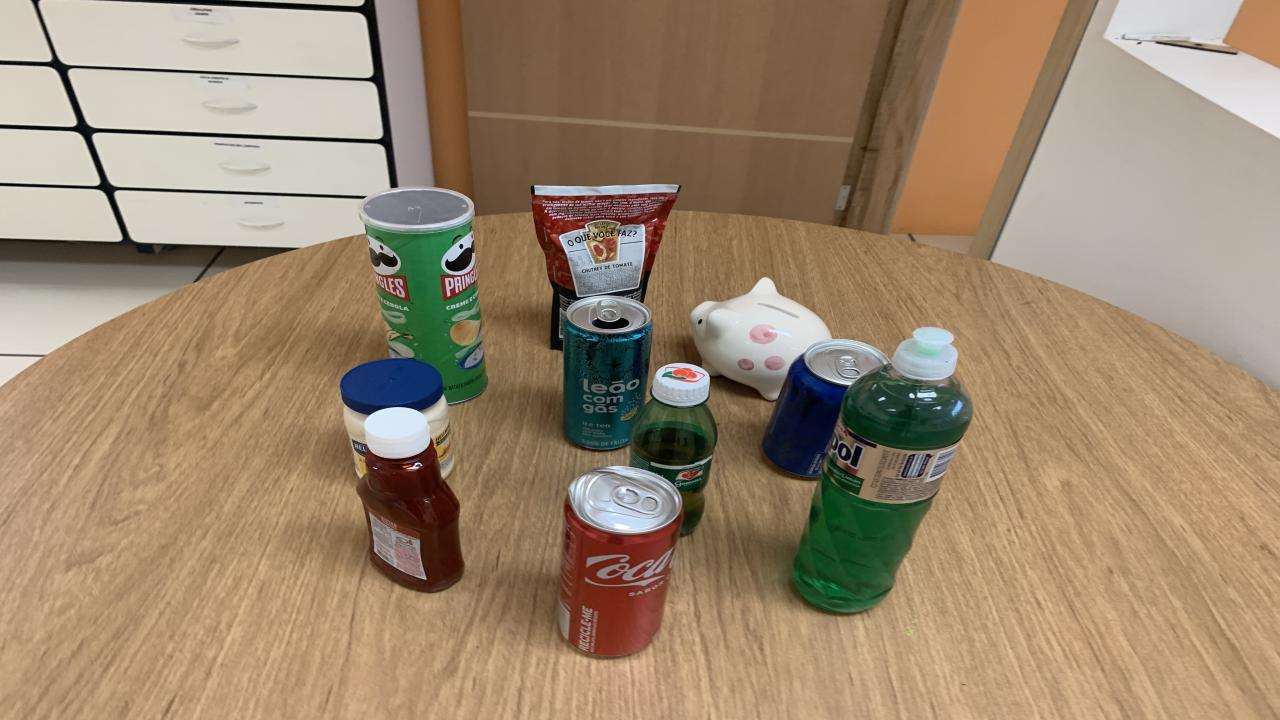Coke-Drinks: (558, 467, 682, 656)
Detergent-Cleanup_Items: (792, 326, 972, 613)
Guarana-Drinks: (630, 362, 718, 534)
Ketchup-Pantry_Items: (358, 407, 465, 592)
Mayonnaise-Pantry_Items: (340, 358, 455, 476)
Pig_Safe-Miscellaneous: (690, 278, 832, 401)
Pringles-Snacks: (360, 188, 488, 403)
Tea-Drinks: (562, 296, 652, 450)
Tomato_Sauce-Pantry_Items: (530, 184, 680, 349)
Tonic-Drinks: (762, 339, 890, 478)
